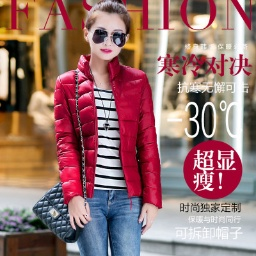face: (77, 2, 137, 65)
